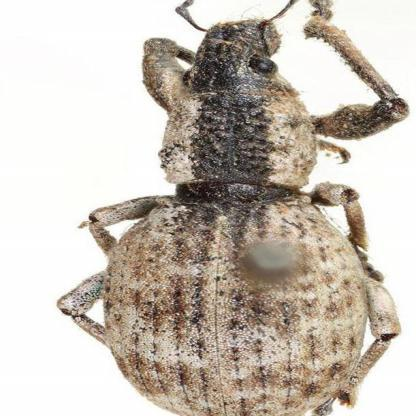rice-bug: (57, 14, 406, 416)
